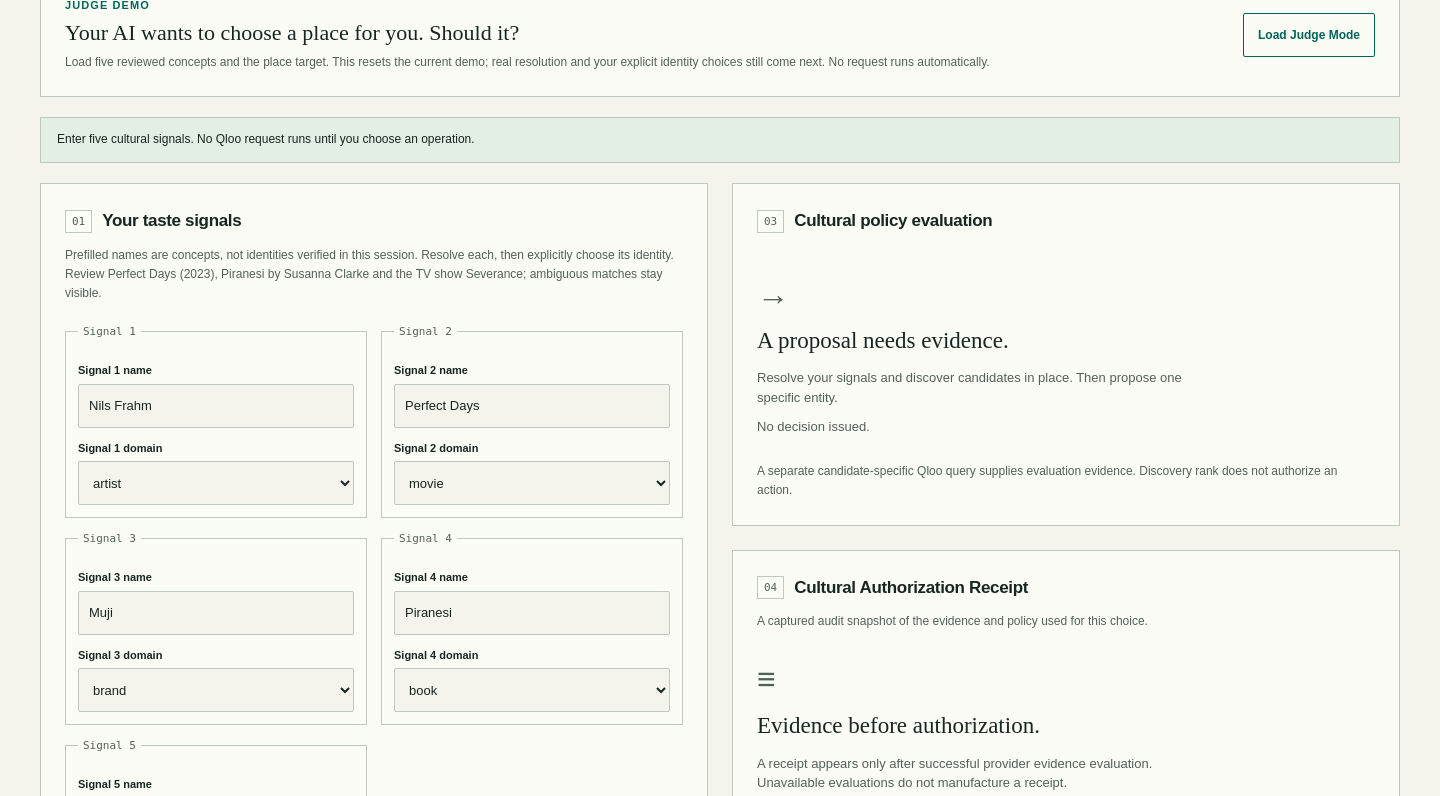
Test: Judge Mode resets concepts/target but makes no request or identity choice
(page scrolled)
Replace the text in the field labelled "Signal 1 name" with "Custom" at (216, 406), box [78,384,354,428]
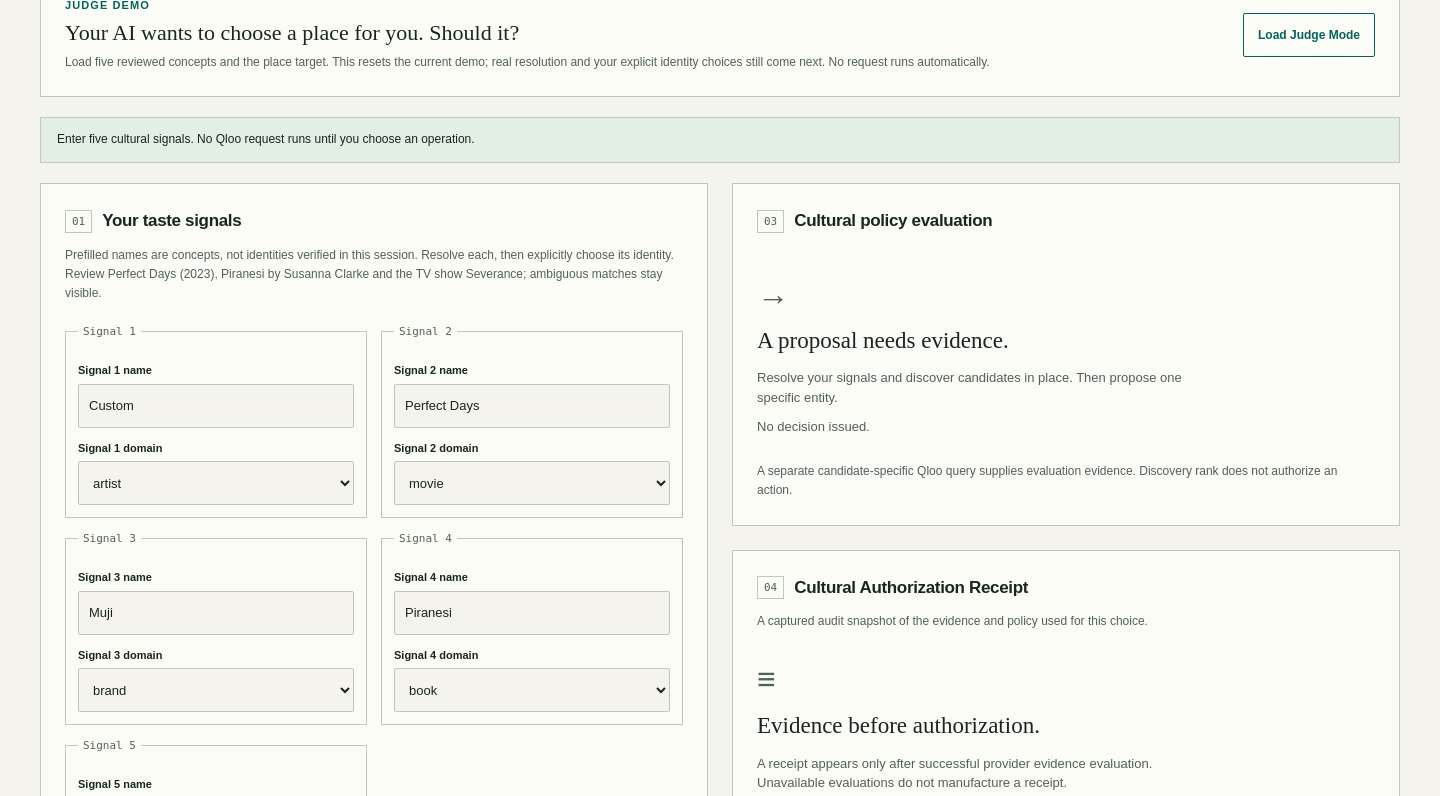
Click the button "Load Judge Mode" at (1309, 35), box [1243,13,1375,57]
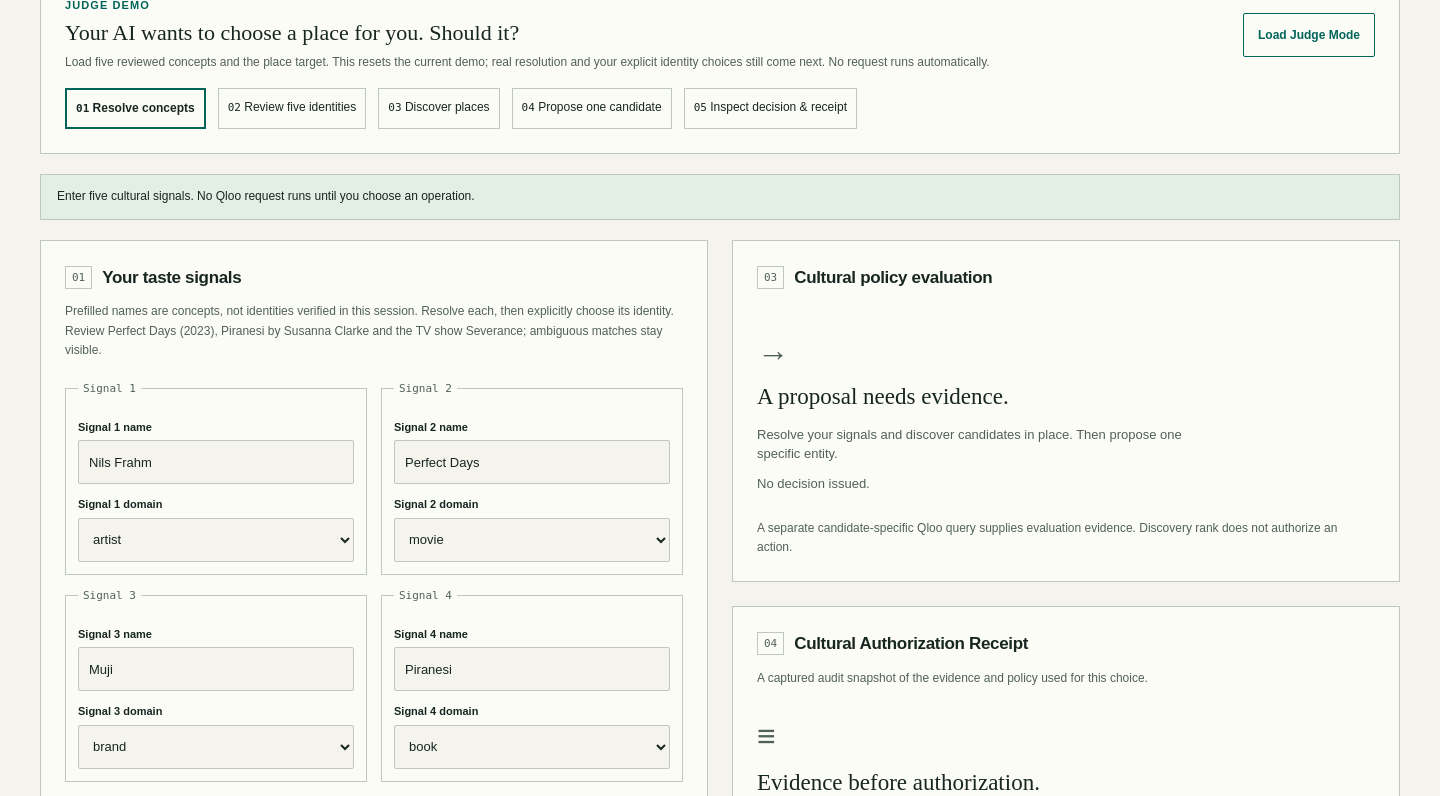
Now the field labelled "Signal 1 name" holds "Nils Frahm", box [78,440,354,484]
Now the list named "Judge Mode steps" is shown, box [65,88,857,129]
